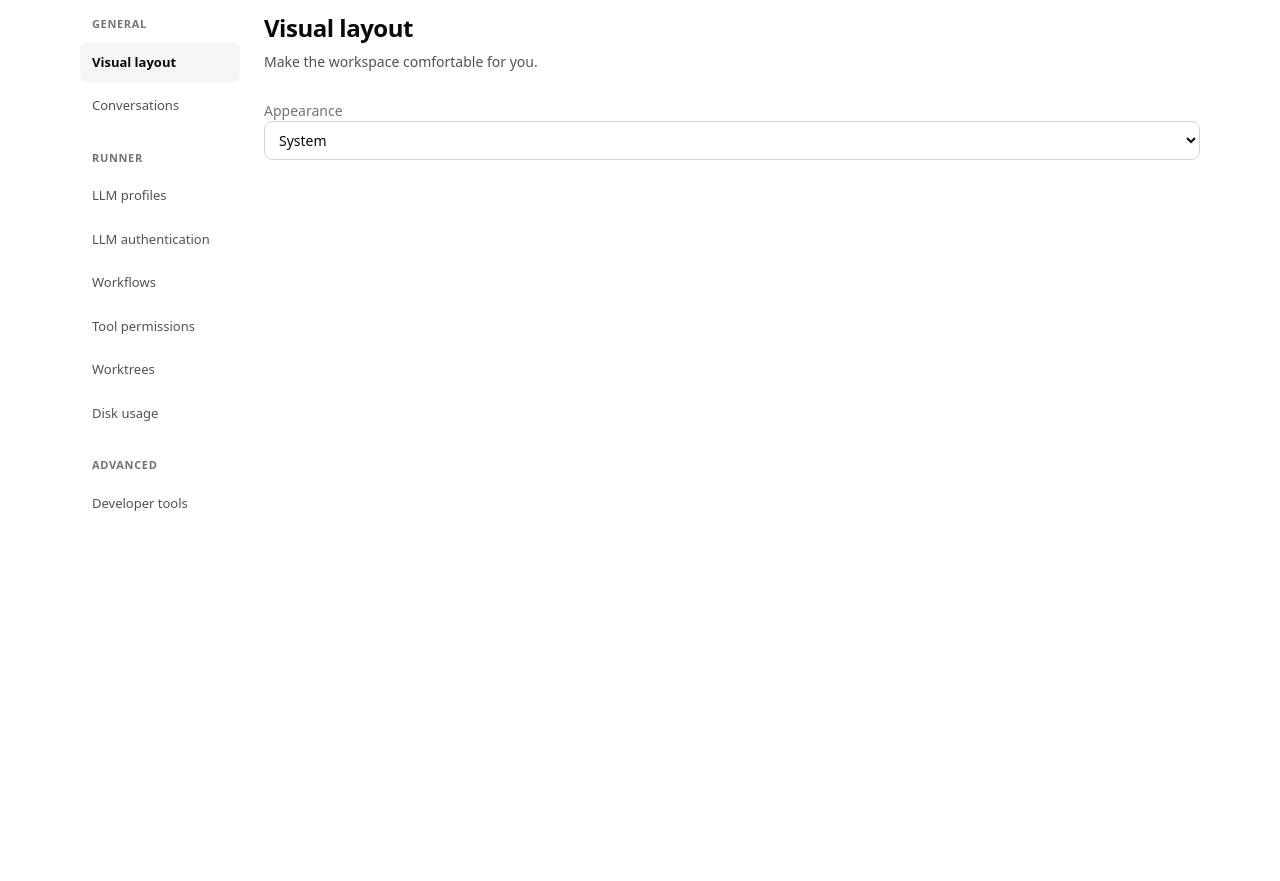
completed workflow (active=false) confirms beside its row before deletion and refreshes usage
The image size is (1280, 881).
Click the button "Disk usage": (160, 413) [80,394,240,433]
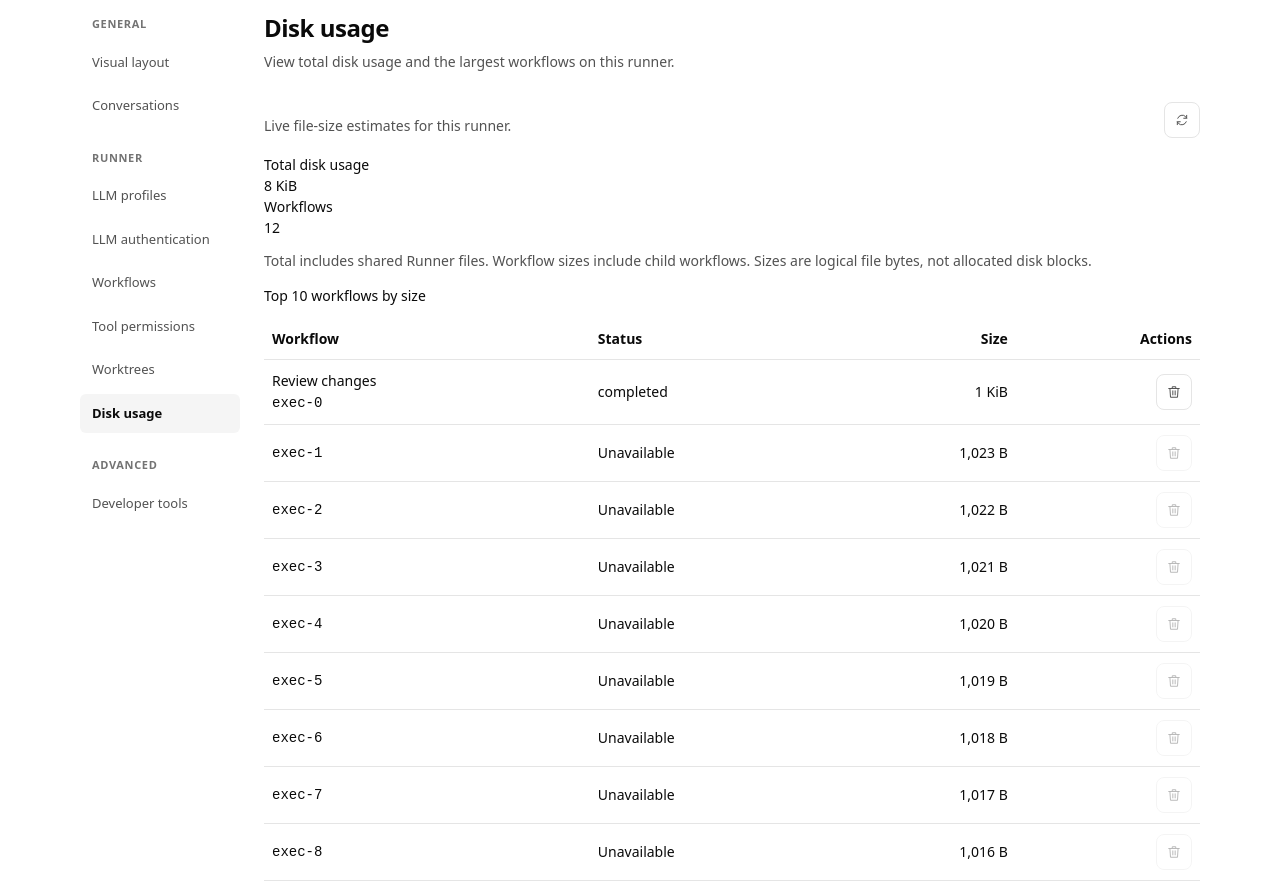
Expected: the button named "Delete exec-1" is disabled, [1156,435,1192,471]
Click the button named "Delete Review changes": (1174, 392) [1156,374,1192,410]
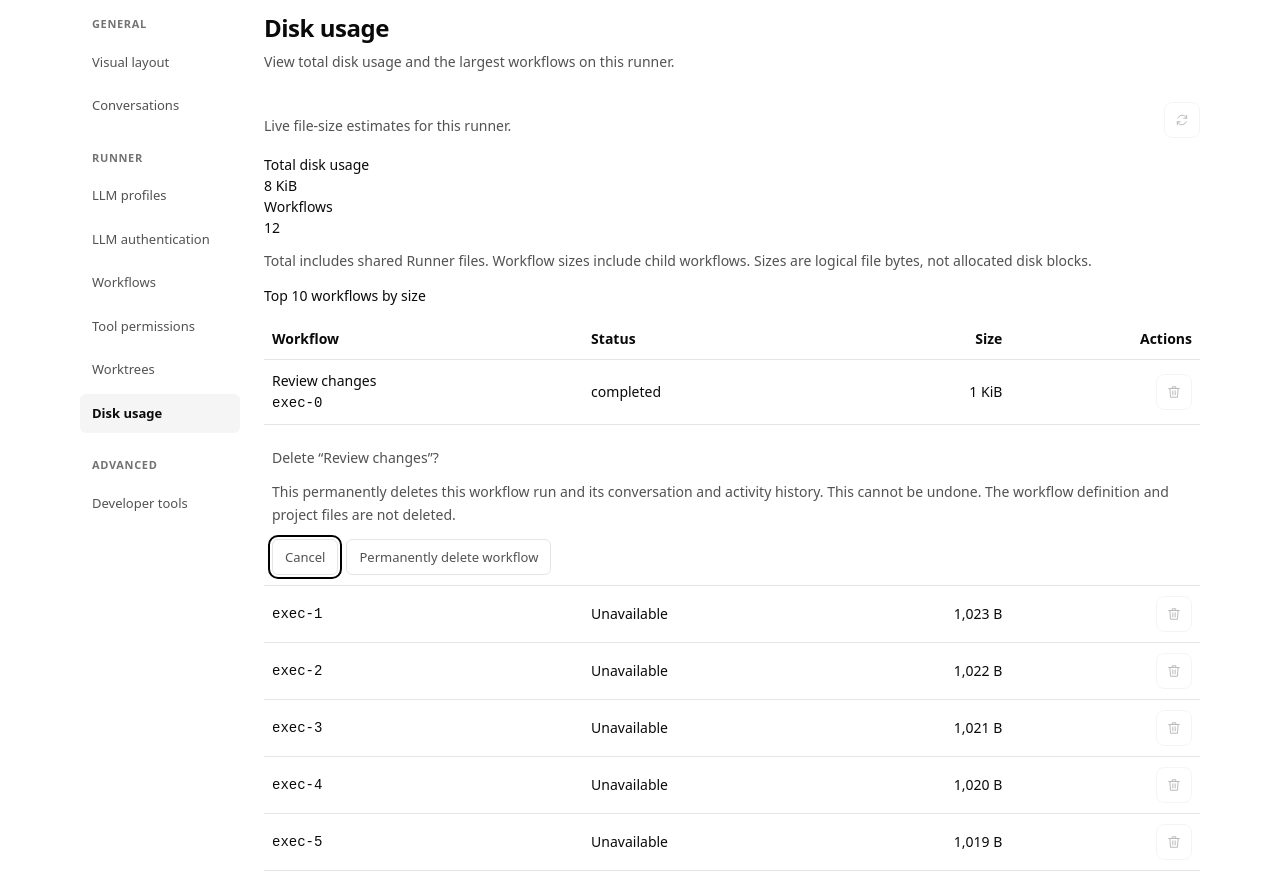
Expected: the button "Permanently delete workflow" is enabled, [346,539,551,575]
Click the button "Cancel": (305, 557) [272,539,338,575]
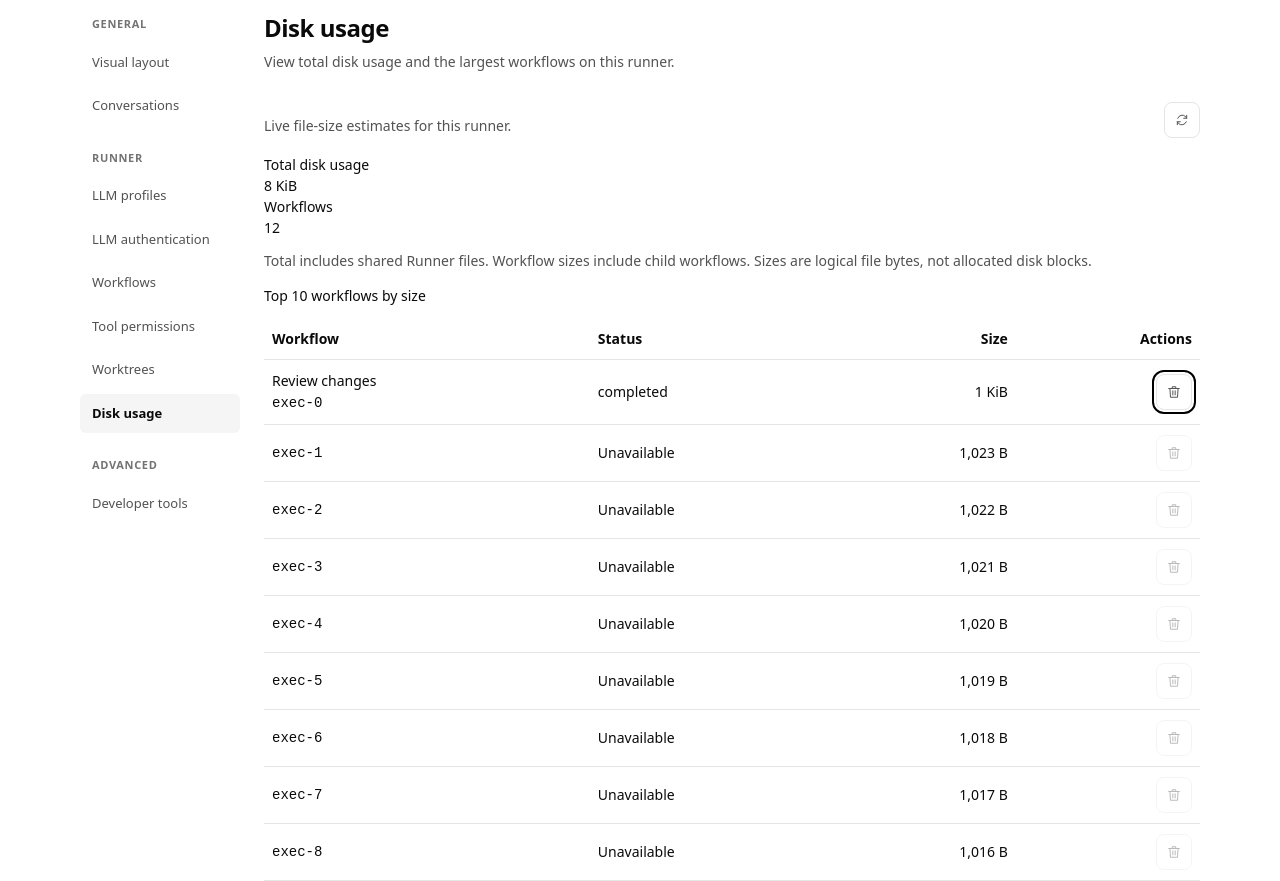
Click the button named "Delete Review changes": (1174, 392) [1156,374,1192,410]
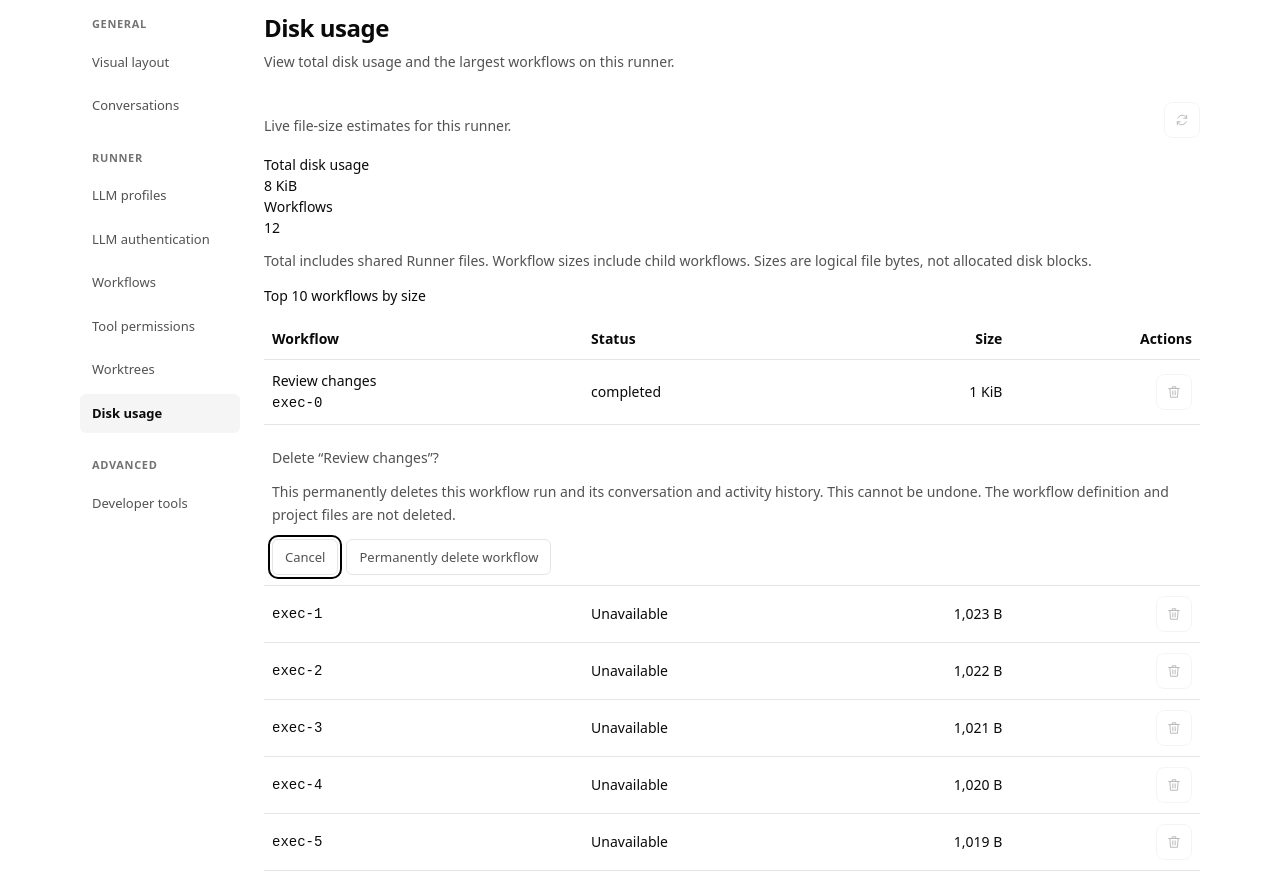
Click the button "Permanently delete workflow": (449, 557) [346,539,551,575]
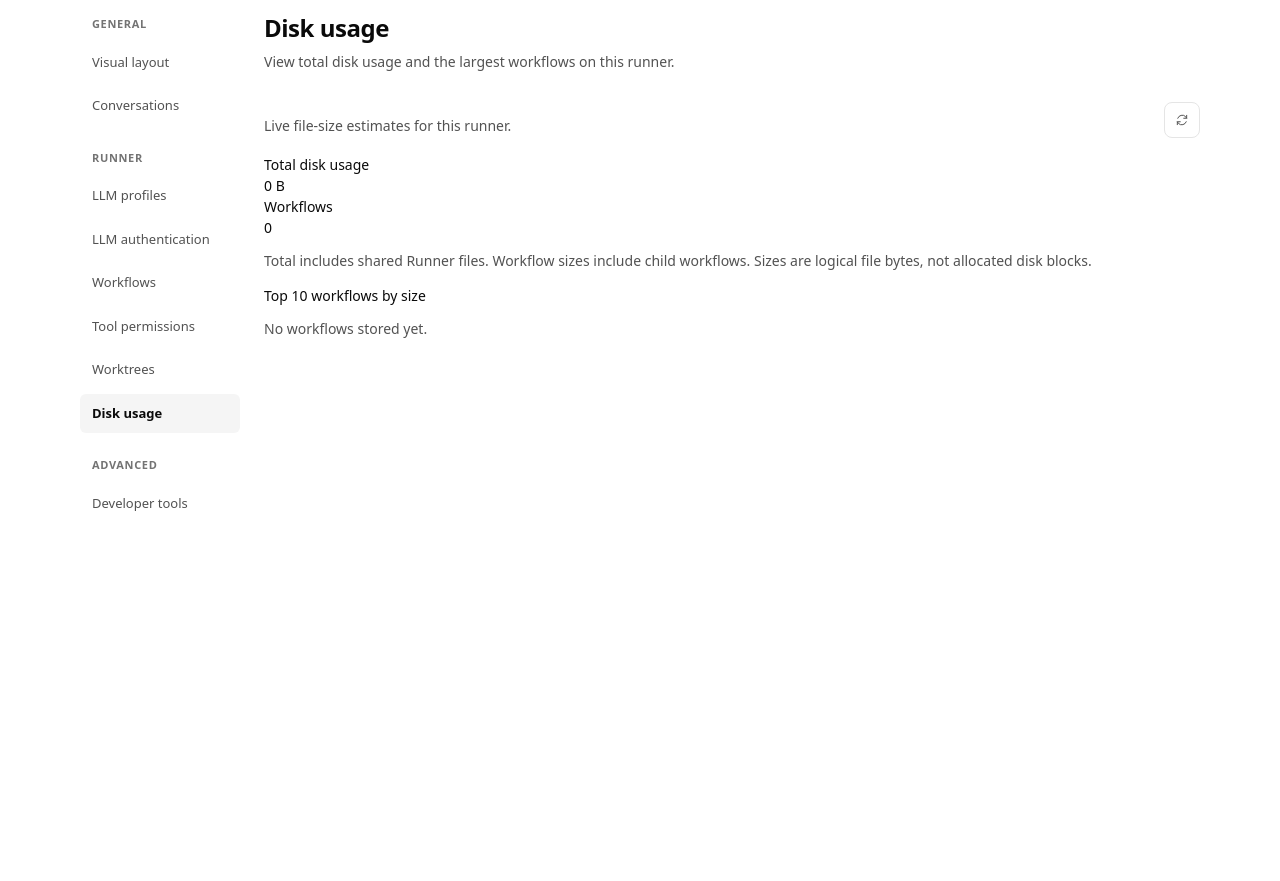
Expected: the text "No workflows stored yet." is shown, [264,319,427,338]
